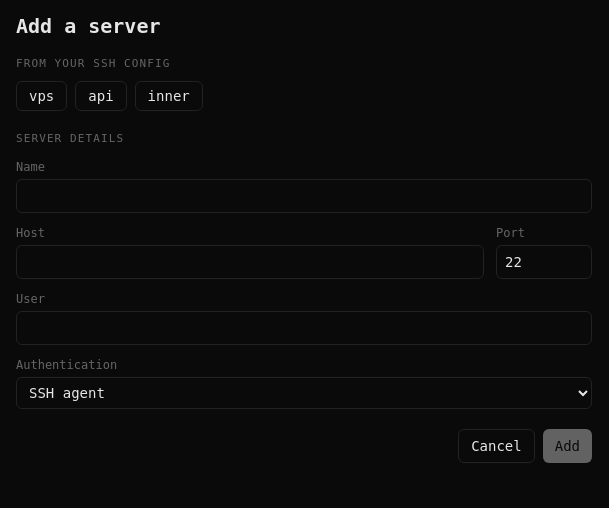
it: AddServer › lists hosts from ssh config and pre-fills the form from one
Click the button "vps" at (42, 96), box [16,80,67,110]
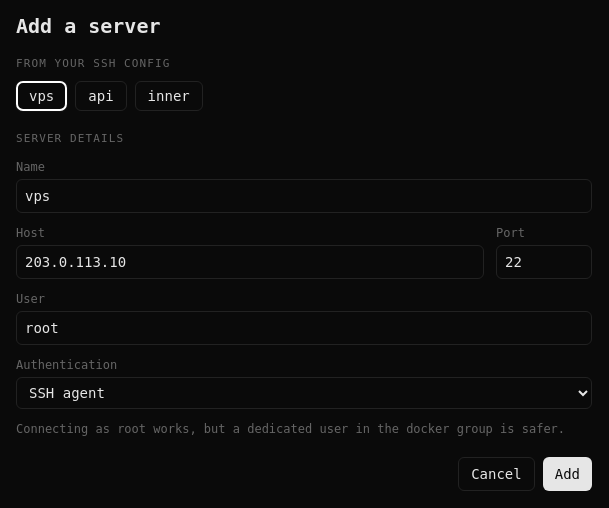
Check: the field labelled "Host" holds "203.0.113.10", box [16,245,484,279]
Check: the field labelled "User" holds "root", box [16,311,592,345]
Check: the field labelled "Name" holds "vps", box [16,179,592,213]
